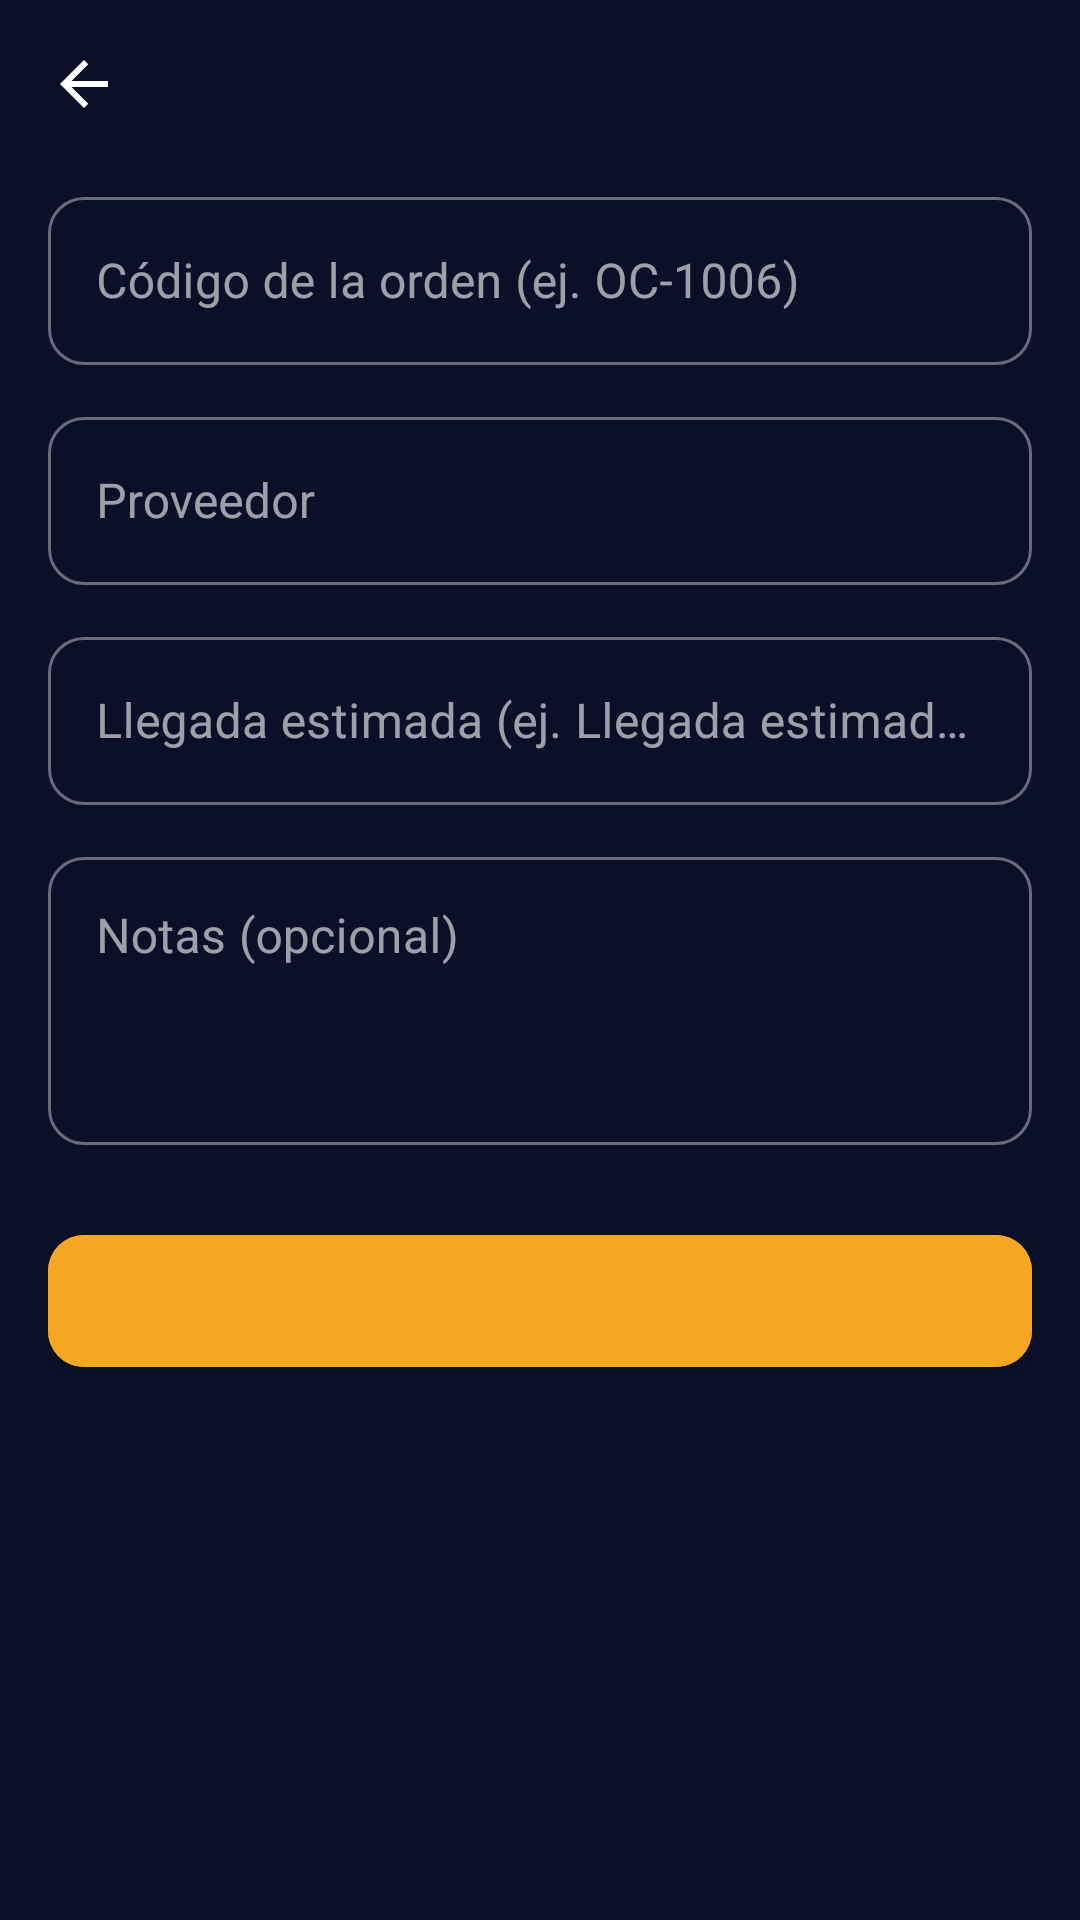

Icons on this 1080*1920 Android screen, each with the point to tap as (x,y):
Volver: (84,84)
